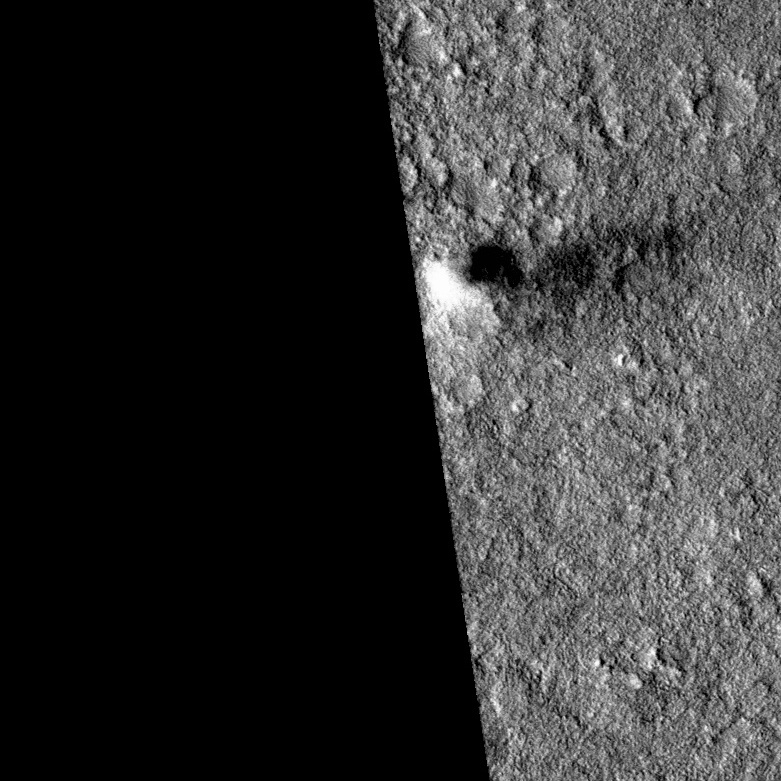dust_devil: (415, 209, 711, 337)
